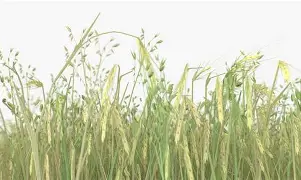crops: (0, 20, 295, 175), (4, 97, 56, 178)
